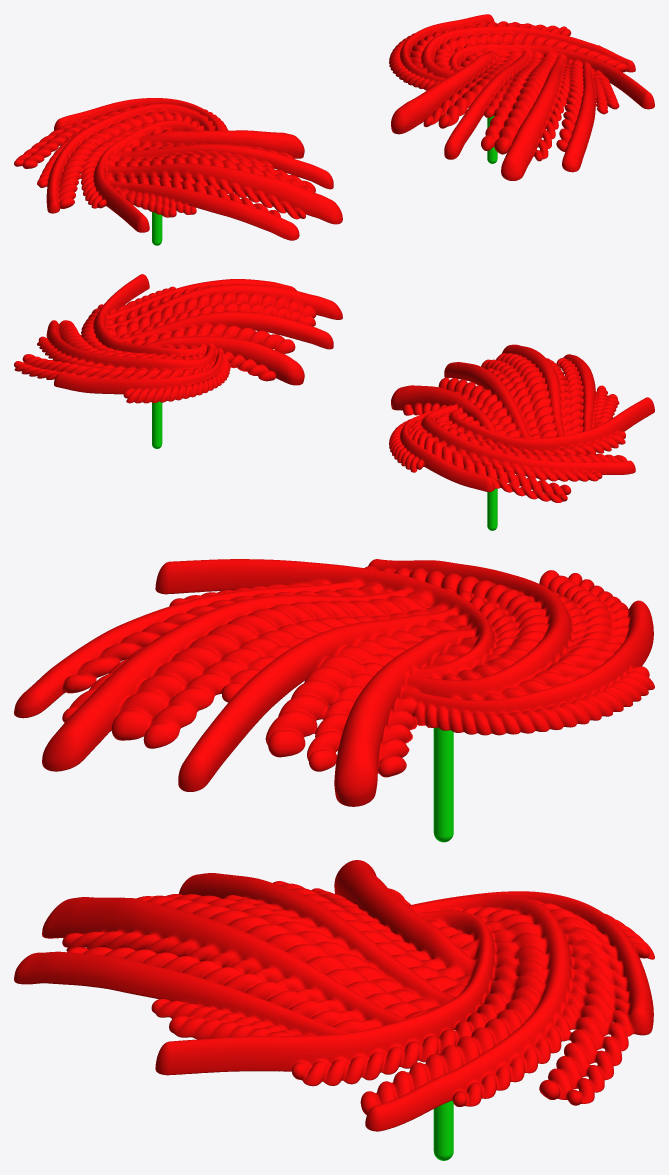
3 renders of one model, top to bottom at view 1: azimuth 30°, elevation 25°; view 2: azimuth 150°, elevation 25°; view 3: azimuth 270°, elevation 25°, orthographic. The views are drawn at different scales.
Parts seen in each view (by area): view 1: Brinco Rope.3dm; view 2: Brinco Rope.3dm; view 3: Brinco Rope.3dm.
Boxes of the visible parts, left/top/right/bottom form: Brinco Rope.3dm: left=14, top=14, right=654, bottom=245; Brinco Rope.3dm: left=14, top=274, right=654, bottom=530; Brinco Rope.3dm: left=14, top=559, right=654, bottom=1160.
Bounding box in the file's own units: 3.54 × 0.6945 × 1.72.
